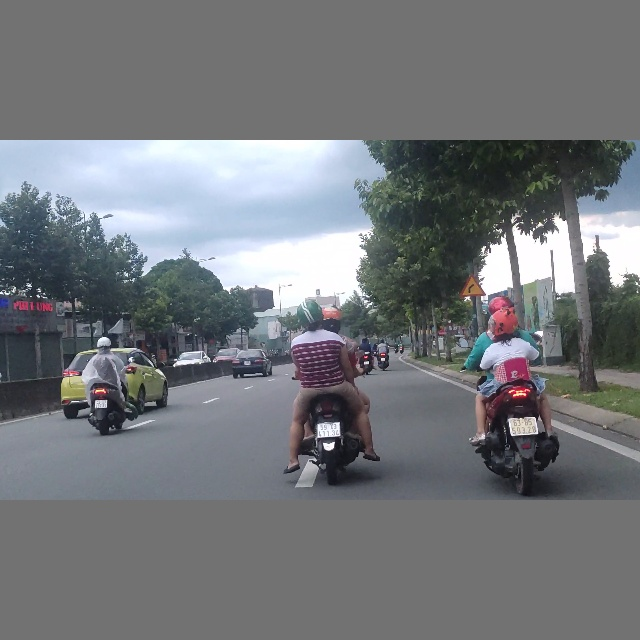W.201b: (458, 273, 487, 297)
